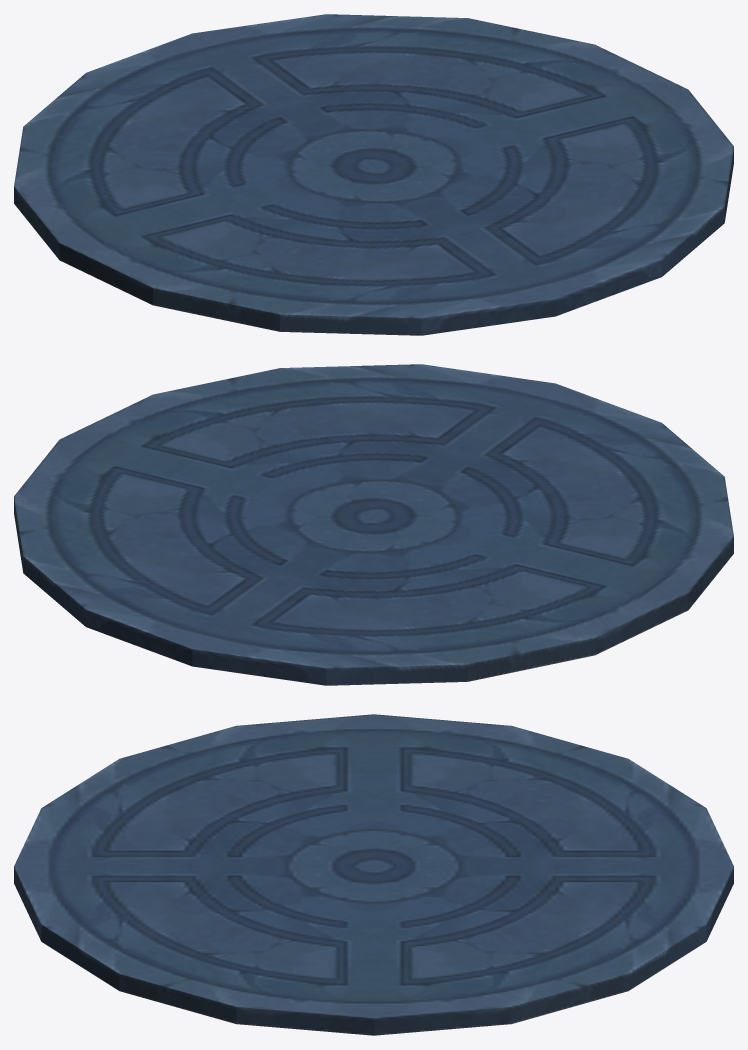
Rendered from guchengqishituan_BOSS_A_01.FBX.
3 renders of one model, top to bottom at view 1: azimuth 30°, elevation 25°; view 2: azimuth 150°, elevation 25°; view 3: azimuth 270°, elevation 25°, orthographic.
Parts seen in each view (by area): view 1: guchengqishituan_BOSS_A_01; view 2: guchengqishituan_BOSS_A_01; view 3: guchengqishituan_BOSS_A_01.
Boxes of the visible parts, bbox=[...] form: guchengqishituan_BOSS_A_01: bbox=[14, 14, 733, 335]; guchengqishituan_BOSS_A_01: bbox=[14, 364, 733, 685]; guchengqishituan_BOSS_A_01: bbox=[14, 714, 733, 1035].
Bounding box in the file's own units: 1278 × 33.66 × 1278.
